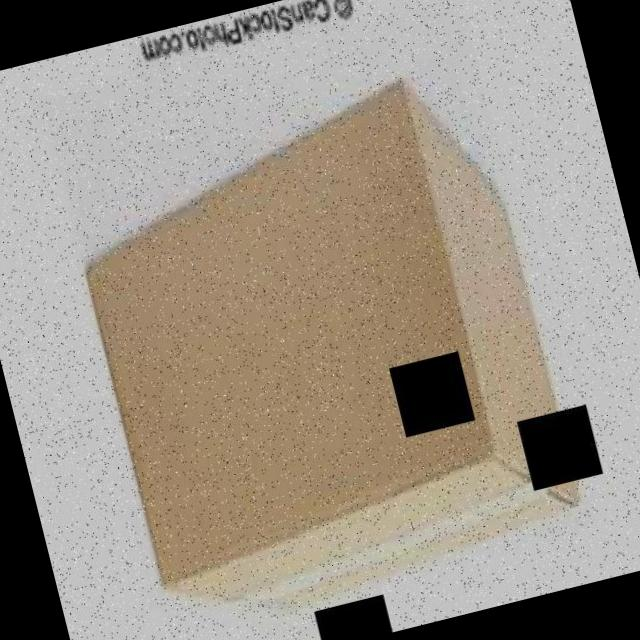box: (41, 53, 596, 640)
